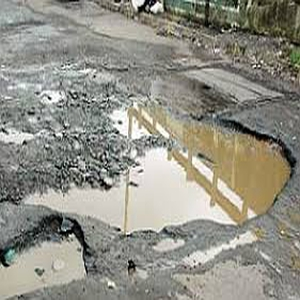pothole: (15, 99, 300, 226), (2, 214, 94, 300)
